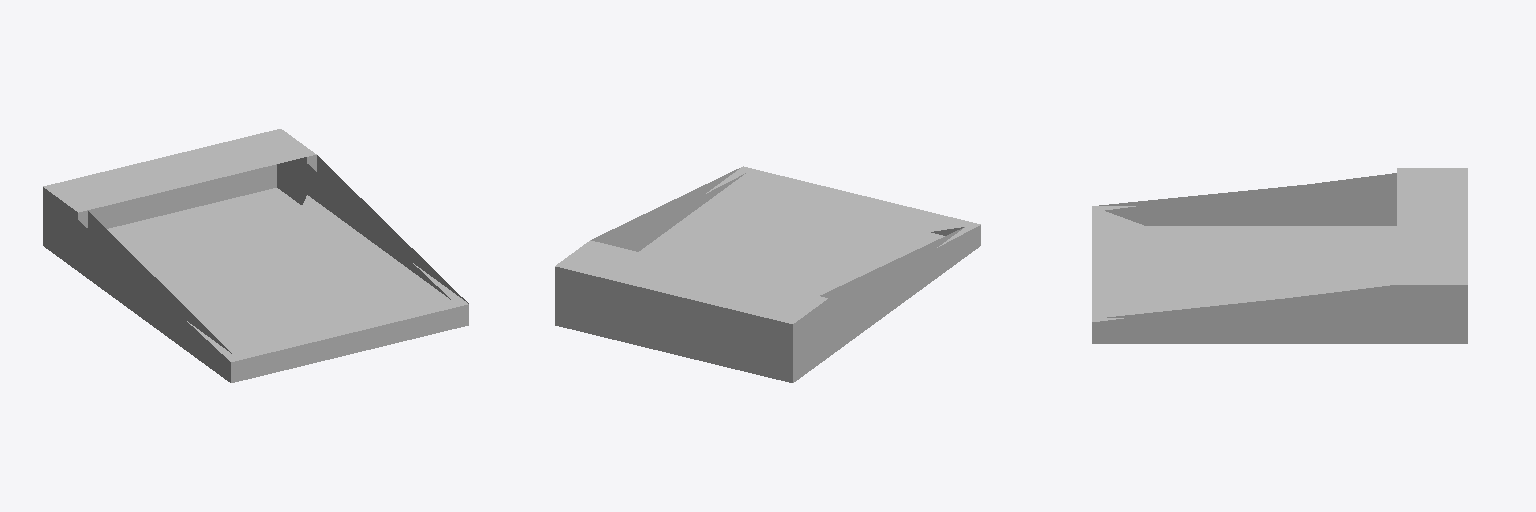
Rendered from container_v2.obj.
The picture shows the model from 3 angles: view 1: azimuth 30°, elevation 25°; view 2: azimuth 150°, elevation 25°; view 3: azimuth 270°, elevation 25°; orthographic projection.
Parts seen in each view (by area): view 1: Vasilhame_Cubo.002; view 2: Vasilhame_Cubo.002; view 3: Vasilhame_Cubo.002.
Part boxes in pixels (bbox=[...]): Vasilhame_Cubo.002: bbox=[43, 129, 468, 382]; Vasilhame_Cubo.002: bbox=[555, 166, 980, 382]; Vasilhame_Cubo.002: bbox=[1092, 168, 1467, 343].
Size of the model in its own units: 0.076 by 0.018 by 0.104.